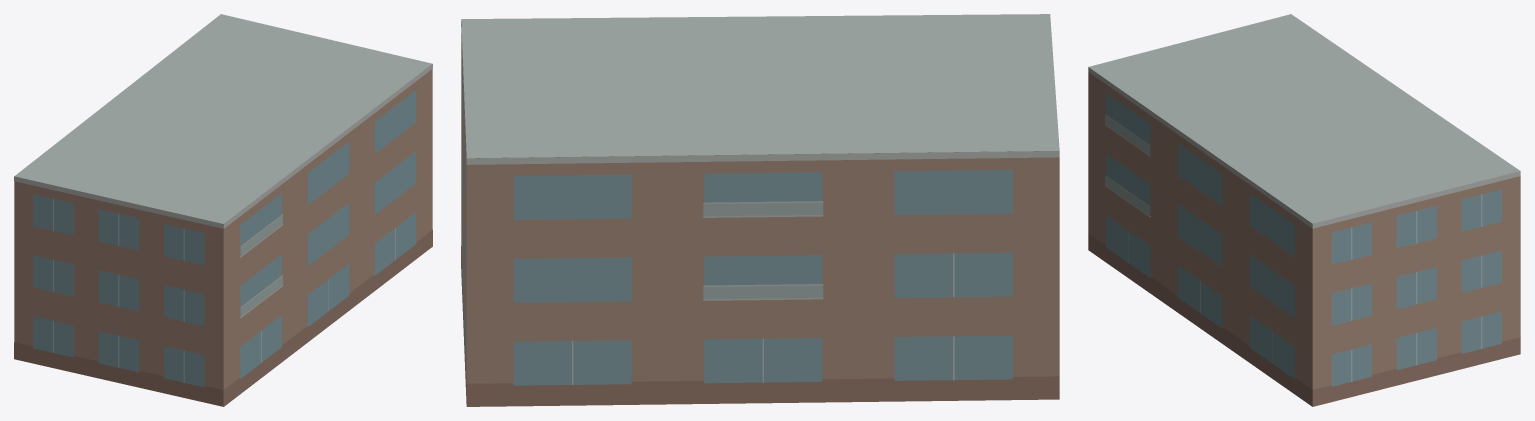
The model's file is survey-upis-32621534.glb.
The picture shows the model from 3 angles, left to right: view 1: azimuth 30°, elevation 25°; view 2: azimuth 150°, elevation 25°; view 3: azimuth 270°, elevation 25°; orthographic projection. The views are drawn at different scales.
Parts seen in each view (by area): view 1: survey-upis-32621534.tmp; view 2: survey-upis-32621534.tmp; view 3: survey-upis-32621534.tmp.
Part boxes in pixels (box(x1,y1,x2,y2)): survey-upis-32621534.tmp: box(14, 14, 432, 406); survey-upis-32621534.tmp: box(461, 14, 1059, 406); survey-upis-32621534.tmp: box(1088, 14, 1520, 406).
Size of the model in its own units: 22.49 by 9.15 by 19.59.
